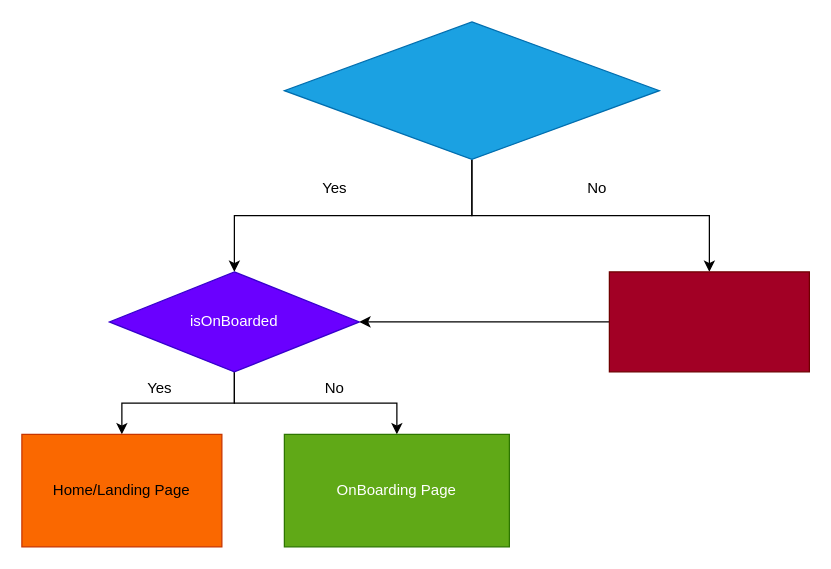
This 831x569 diagram has some shape labels left out. Here are the shapes that lost their labels. From the top down, the centre of each, then its label:
pixel 471 90: IsAuthenticated
pixel 708 321: <Navigate to="/login"/>
